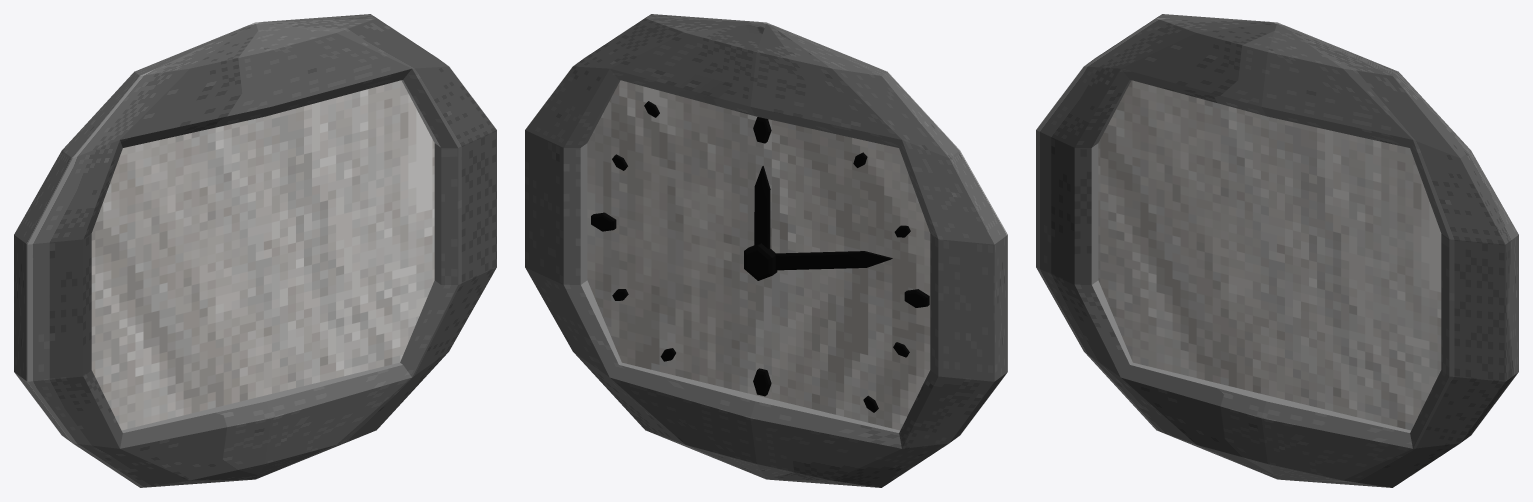
File: Clock.fbx
3 views of the same model, side by side, from view 1: azimuth 30°, elevation 25°; view 2: azimuth 150°, elevation 25°; view 3: azimuth 330°, elevation 25° (orthographic).
Parts seen in each view (by area): view 1: Cube.049; view 2: Cube.049, Cube.050; view 3: Cube.049.
Boxes of the visible parts, x1=… form: Cube.049: x1=14, y1=14, x2=496, y2=487; Cube.049: x1=525, y1=14, x2=1007, y2=487; Cube.050: x1=775, y1=251, x2=892, y2=270; Cube.049: x1=1036, y1=14, x2=1518, y2=487.
Size of the model in its own units: 1.81 by 1.68 by 0.2115.
Materials: 3 (2 with a texture image).
